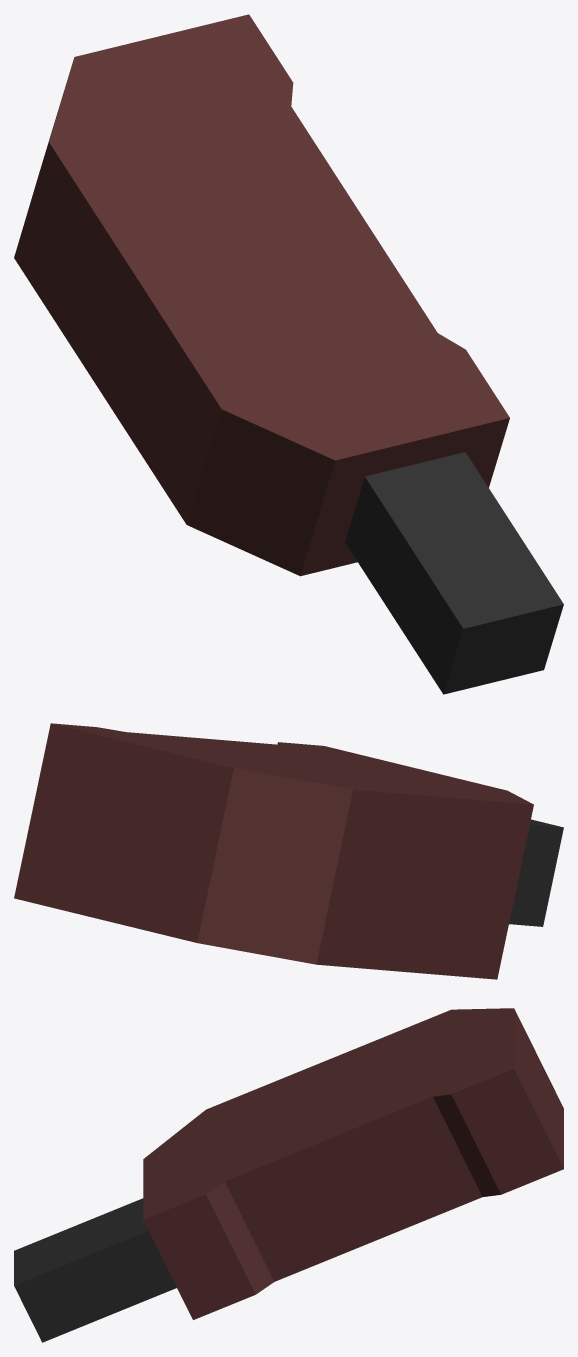
The model's file is AssaultRifle2_05_4.fbx.
3 views of the same model, one above another, from view 1: azimuth 30°, elevation 25°; view 2: azimuth 150°, elevation 25°; view 3: azimuth 270°, elevation 25° (orthographic). The views are drawn at different scales.
Visible parts, largest first — view 1: AssaultRifle2_05_4; view 2: AssaultRifle2_05_4; view 3: AssaultRifle2_05_4.
Boxes of the visible parts, box(x1,y1,x2,y2) form: AssaultRifle2_05_4: box(14, 14, 563, 694); AssaultRifle2_05_4: box(14, 723, 563, 979); AssaultRifle2_05_4: box(14, 1008, 563, 1342).
Bounding box in the file's own units: 0.0146 × 0.0231 × 0.0401.
